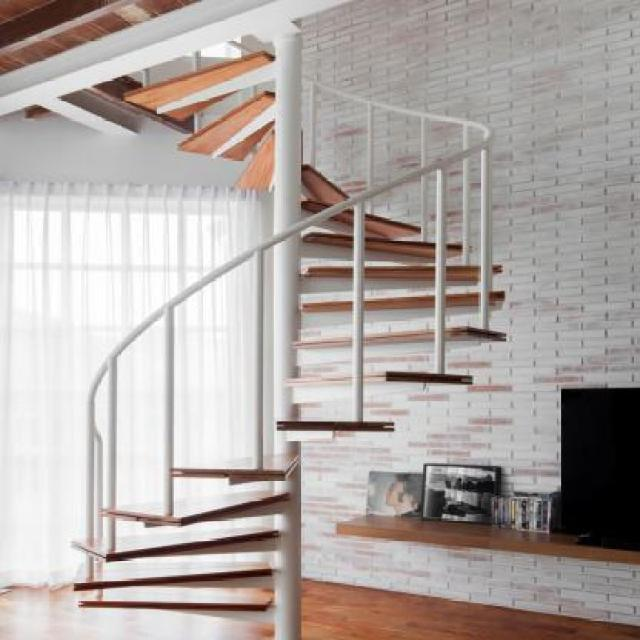stair: (1, 20, 525, 638)
